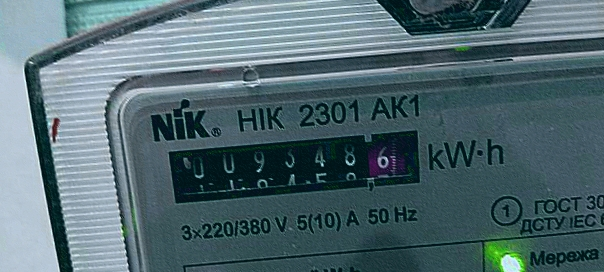0: (220, 150, 237, 174), (190, 152, 205, 179)
3: (280, 144, 296, 171)
4: (310, 141, 326, 169)
6: (373, 142, 392, 171)
8: (340, 139, 358, 168)
9: (249, 147, 267, 174)
screen: (158, 121, 432, 213)
